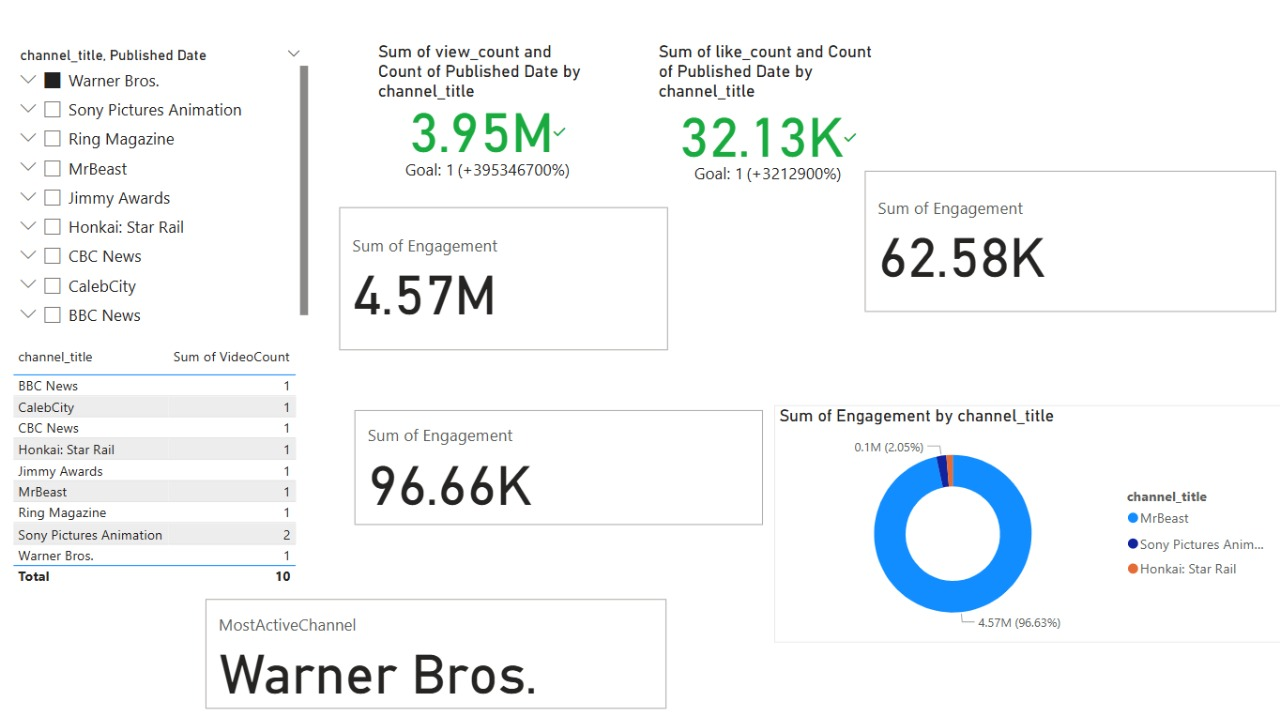

The page's visual inventory and layout, read from the dashboard file:
{"tool":"powerbi","page":{"name":"Page 2","canvas":[1280,720],"ordinal":1},"visuals":[{"type":"slicer","fields":{"Values":["youtube_videos.channel_title","youtube_videos.Published Date"]},"box":[16.5,48,303.3,288.2],"z":0},{"type":"kpi","fields":{"Indicator":["youtube_videos.view_count"],"TrendLine":["youtube_videos.channel_title"],"Goal":["youtube_videos.Published Date"]},"box":[379.1,47.7,226.7,144.2],"z":1000},{"type":"cardVisual","fields":{"Data":["youtube_videos.MostActiveChannel"]},"box":[208.6,595.5,467.9,119.4],"z":2000},{"type":"kpi","fields":{"Indicator":["youtube_videos.like_count"],"TrendLine":["youtube_videos.channel_title"],"Goal":["youtube_videos.Published Date"]},"box":[657,47.7,226.7,153.5],"z":3000},{"type":"tableEx","fields":{"Values":["TopChannels.channel_title","TopChannels.VideoCount"]},"box":[16.5,344.4,303.3,251.1],"z":4000},{"type":"donutChart","fields":{"Category":["TopEngagingChannels.channel_title"],"Y":["TopEngagingChannels.Engagement"]},"box":[776.7,408.1,503.5,236],"z":5000},{"type":"cardVisual","fields":{"Data":["TopEngagingChannels.Engagement"]},"box":[340.3,207.2,336.2,152.3],"z":6000},{"type":"cardVisual","fields":{"Data":["TopEngagingChannels.Engagement"]},"box":[355.8,408.1,415.1,124.4],"z":7000},{"type":"cardVisual","fields":{"Data":["TopEngagingChannels.Engagement"]},"box":[861.6,170.9,418.6,150],"z":8000}]}

Visuals, with their boxes in screenshot pixels (x1, y1, x2, y2), scaled from the page's 1280x720 canvas onto the 1280x716 screenshot:
slicer - youtube_videos.channel_title x youtube_videos.Published Date: BBox(16, 48, 320, 334)
kpi - youtube_videos.view_count x youtube_videos.channel_title: BBox(379, 47, 606, 191)
cardVisual - youtube_videos.MostActiveChannel: BBox(209, 592, 676, 711)
kpi - youtube_videos.like_count x youtube_videos.channel_title: BBox(657, 47, 884, 200)
tableEx - TopChannels.channel_title x TopChannels.VideoCount: BBox(16, 342, 320, 592)
donutChart - TopEngagingChannels.channel_title x TopEngagingChannels.Engagement: BBox(777, 406, 1279, 641)
cardVisual - TopEngagingChannels.Engagement: BBox(340, 206, 676, 358)
cardVisual - TopEngagingChannels.Engagement: BBox(356, 406, 771, 530)
cardVisual - TopEngagingChannels.Engagement: BBox(862, 170, 1279, 319)
